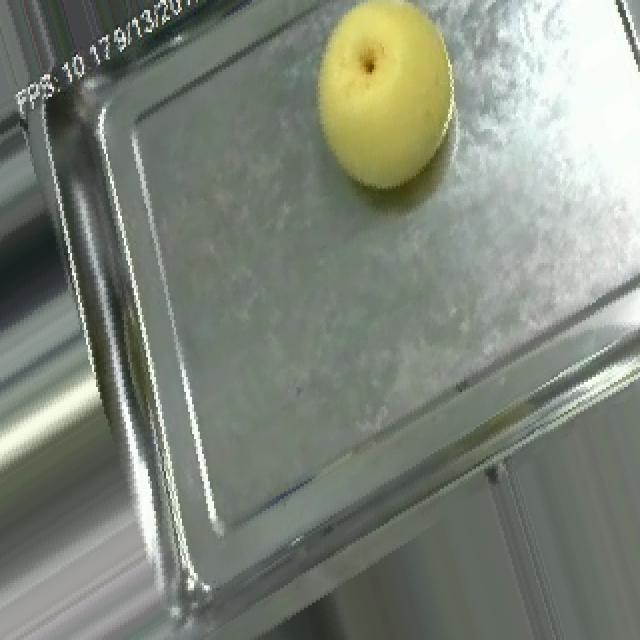Fruit: (286, 0, 490, 216)
